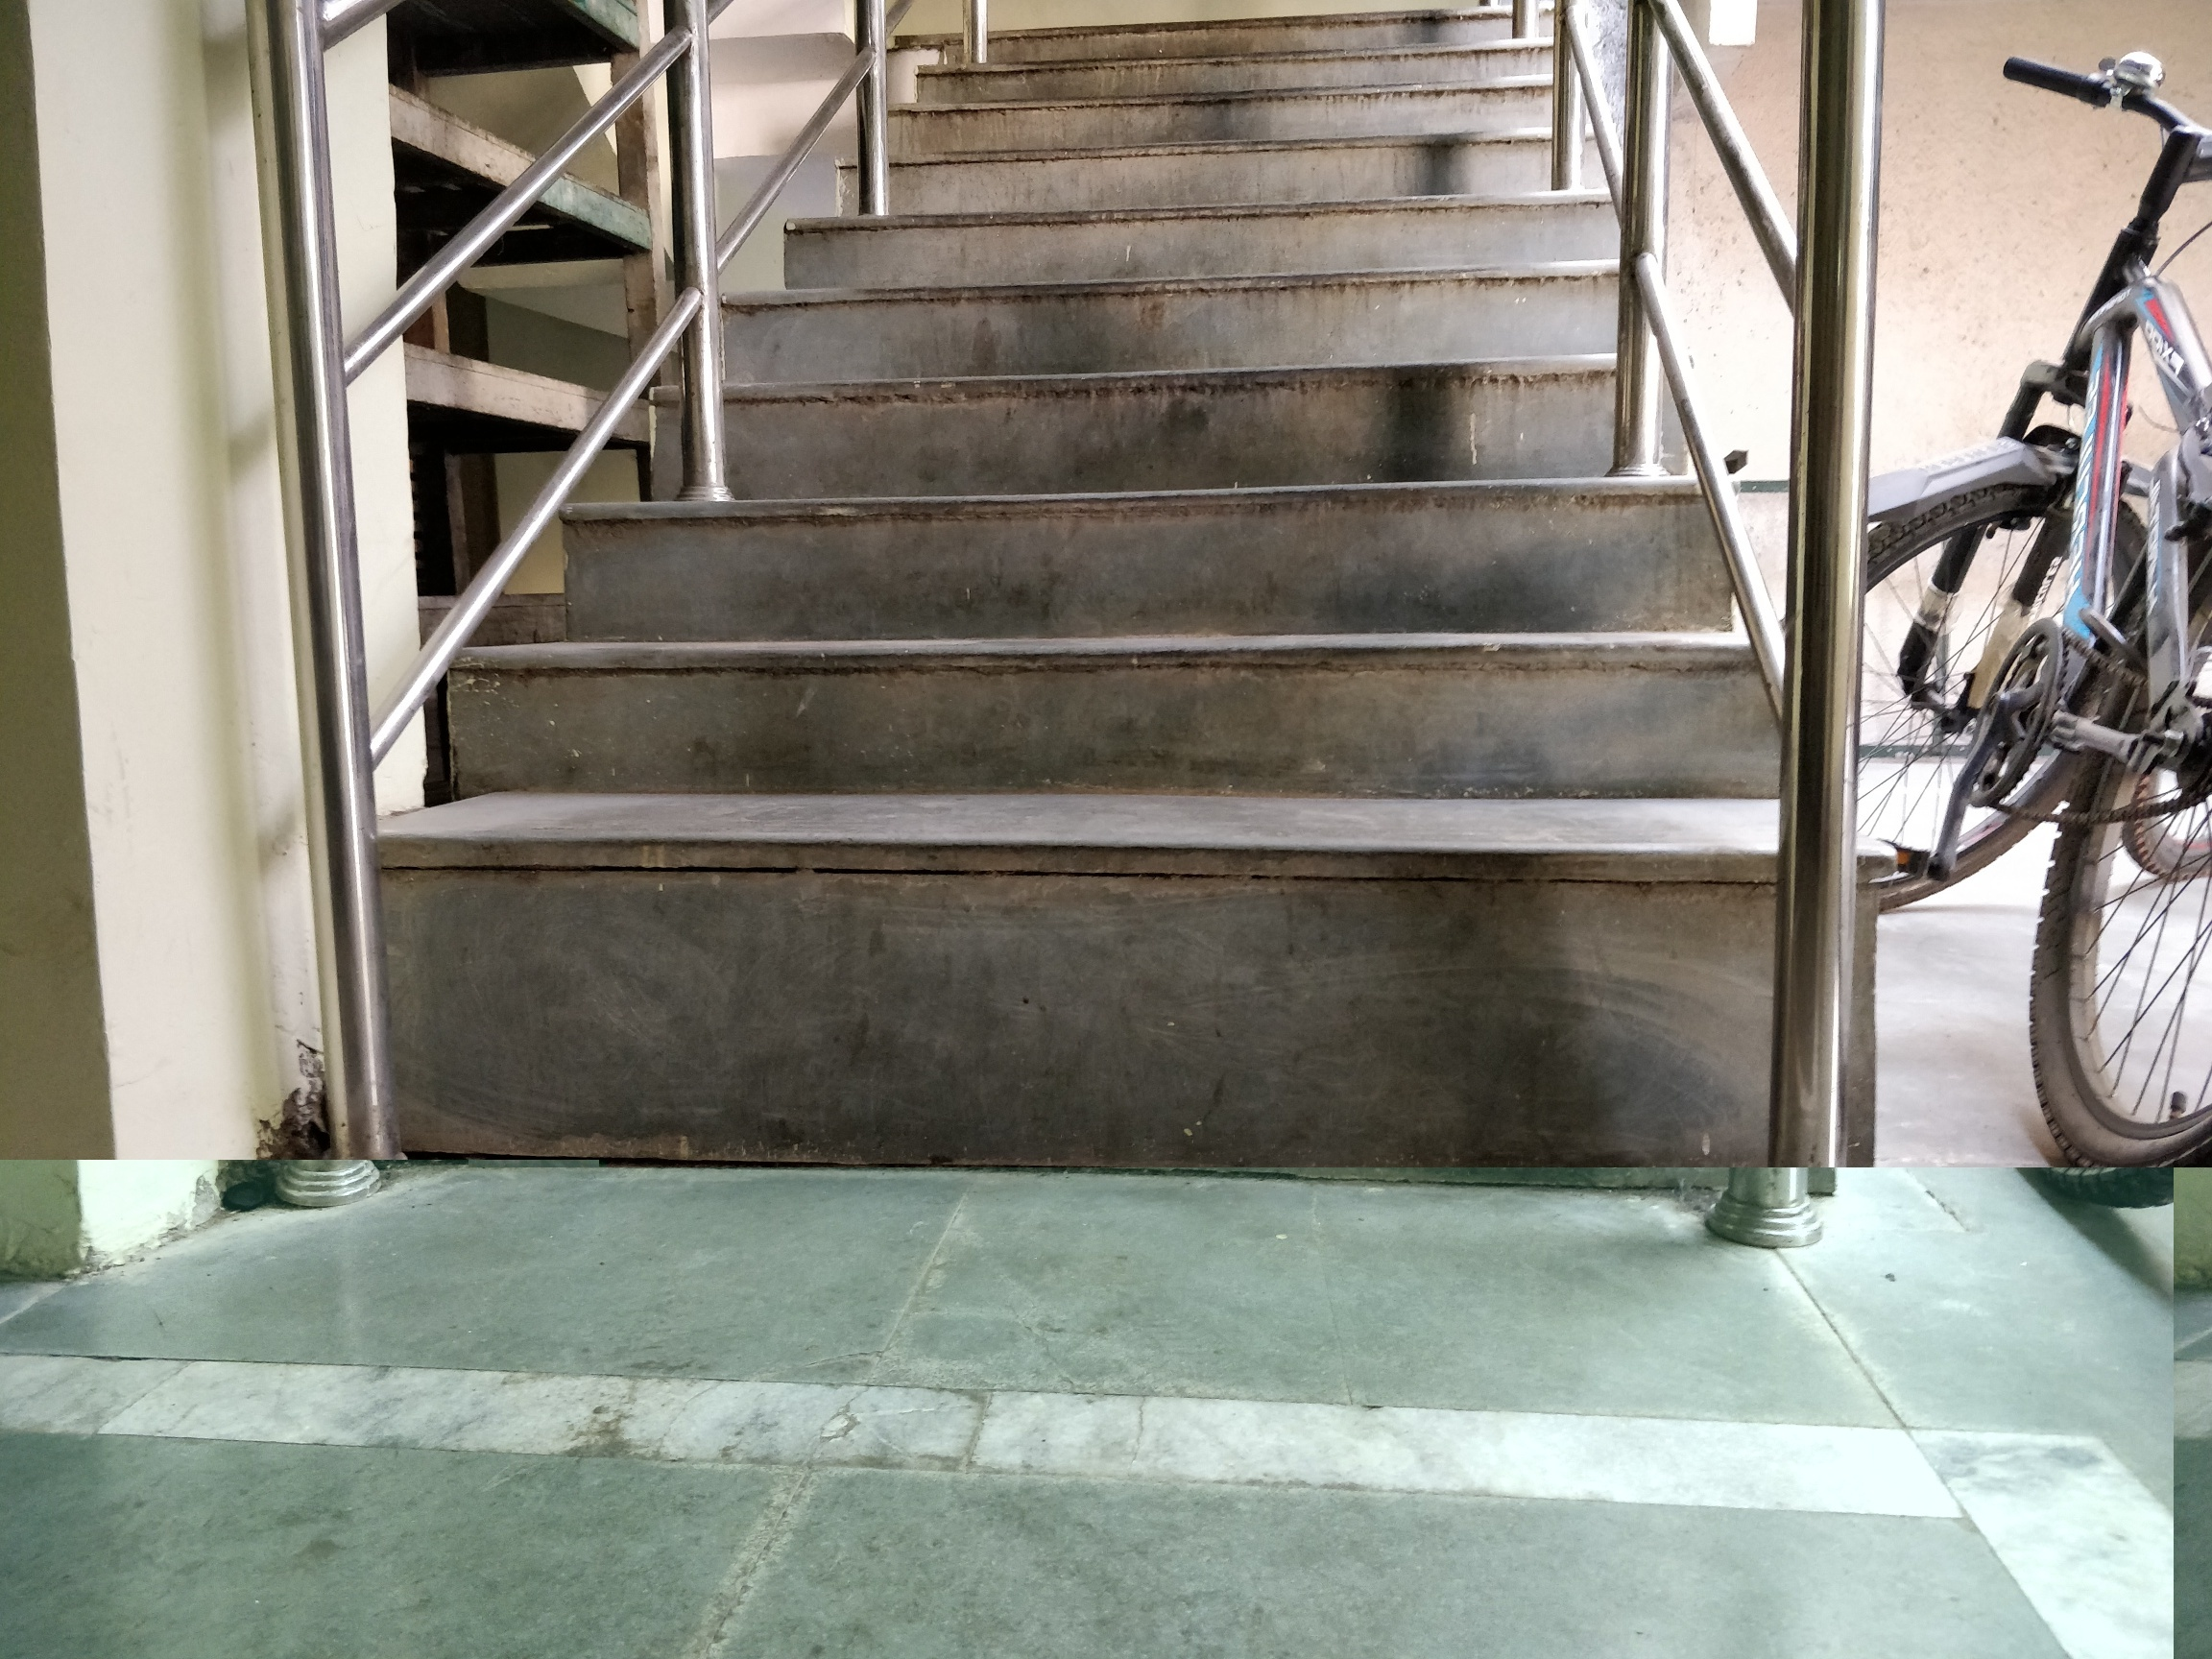stairs_up: (462, 59, 1669, 1187)
